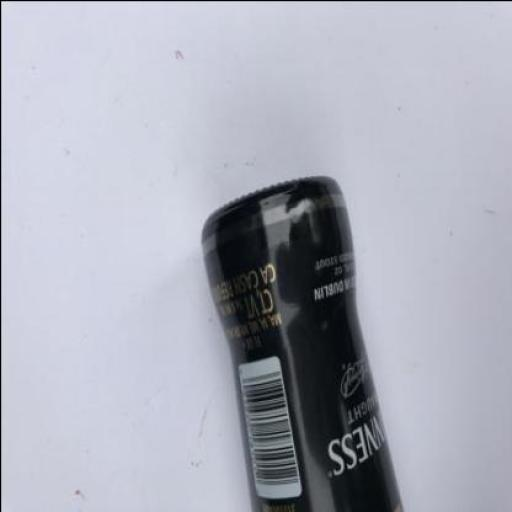glass: (200, 174, 404, 510)
